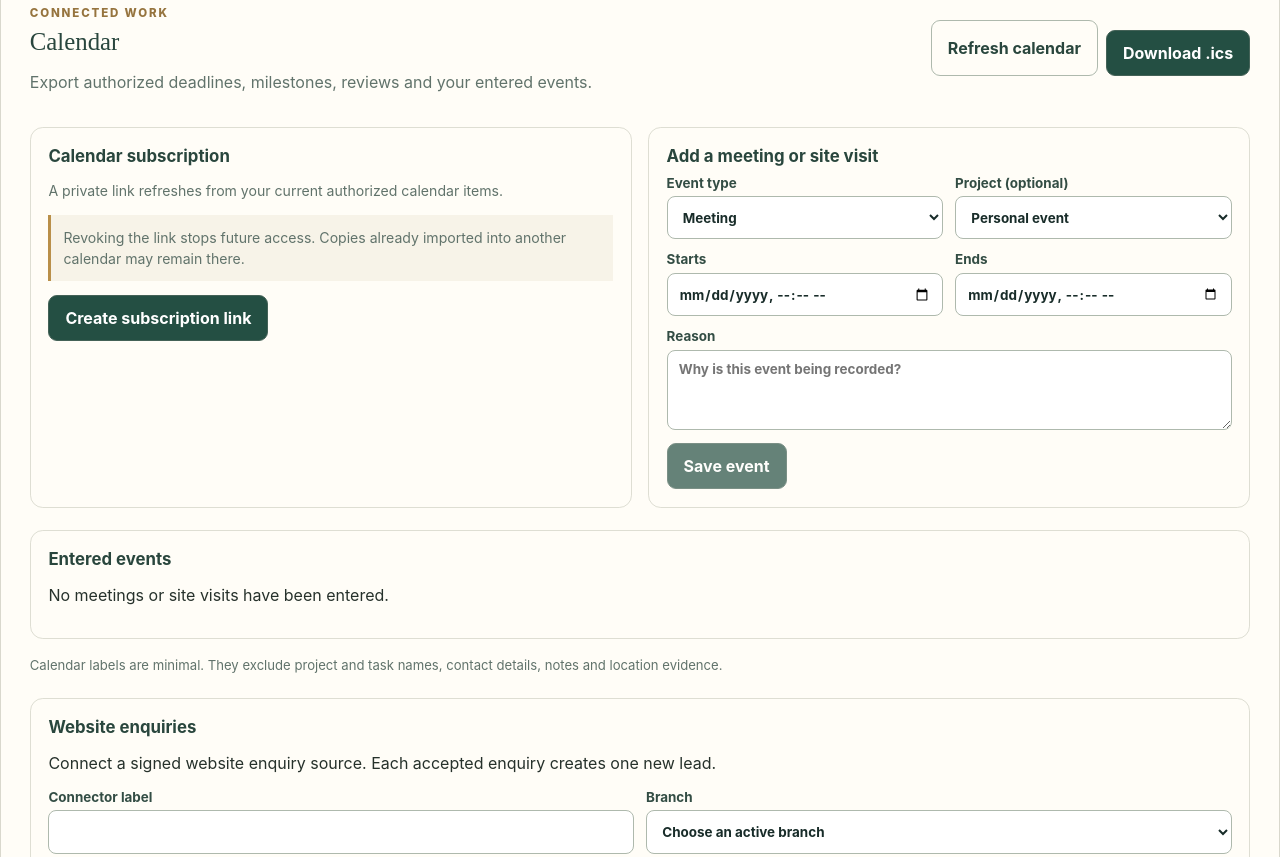
it: calendar integrations › preserves a safe connector configuration conflict message without exposing secrets
Type "Studio website" into the field labelled "Connector label" at (341, 832), box [48,810,634,854]
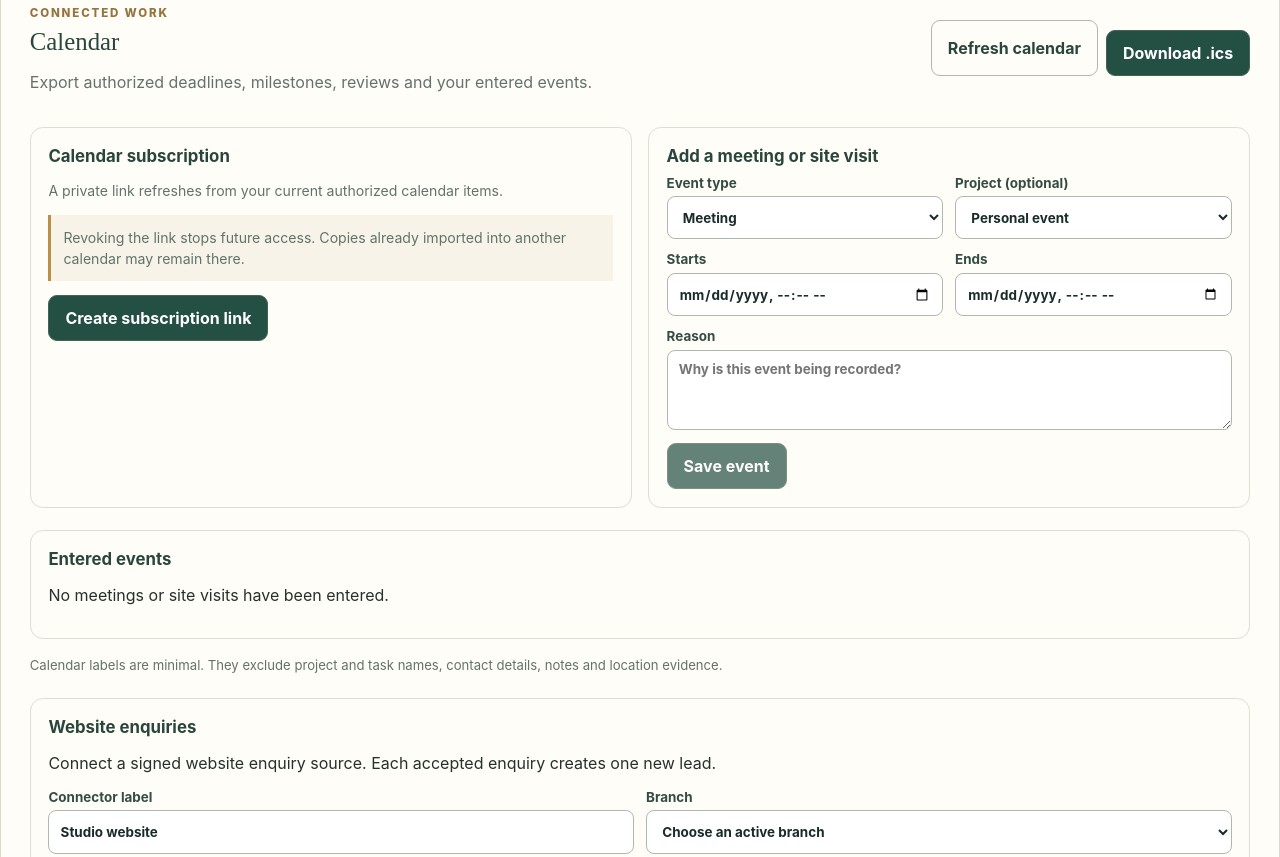
Select "Studio branch" in the dropdown labelled "Branch" at (939, 832), box [646,810,1232,854]
(page scrolled)
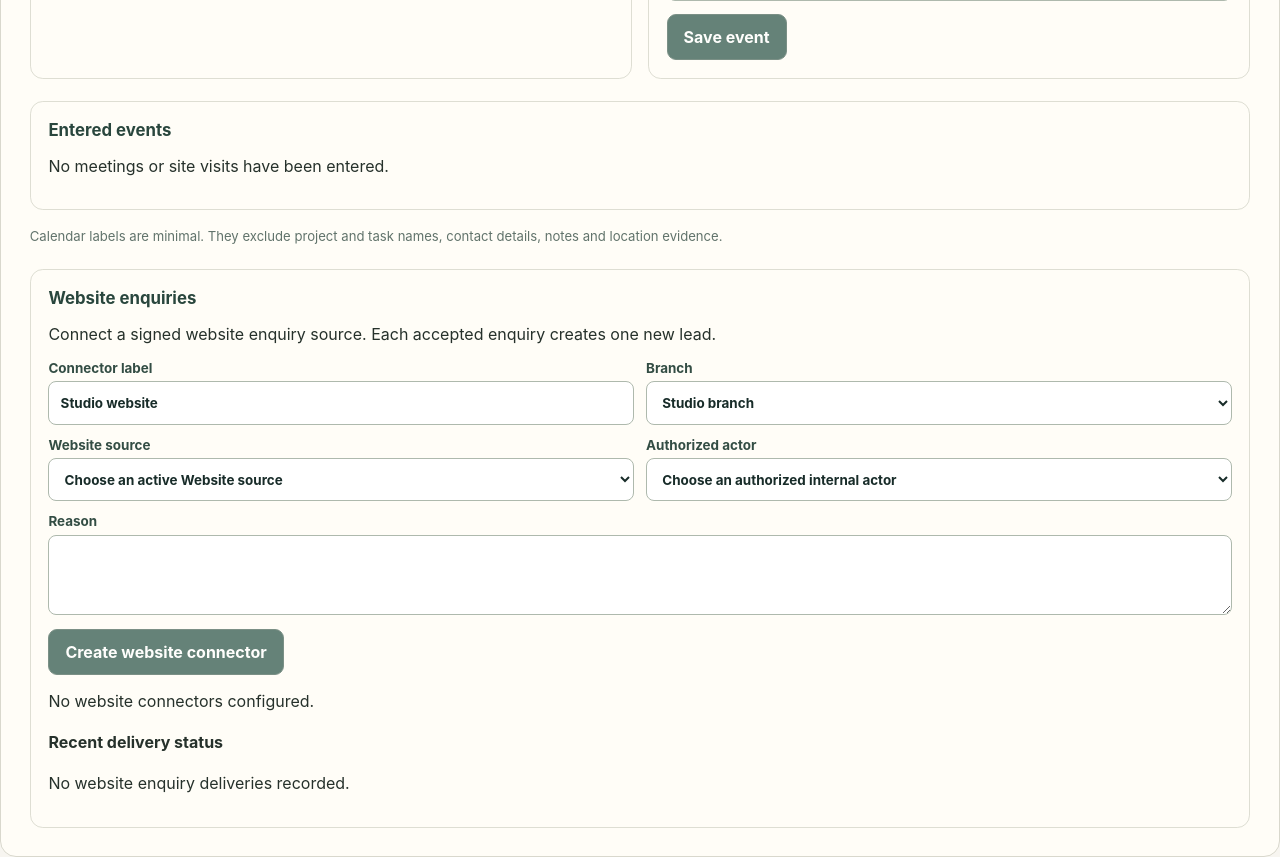
Select "Website" in the dropdown labelled "Website source" at (341, 480), box [48,458,634,501]
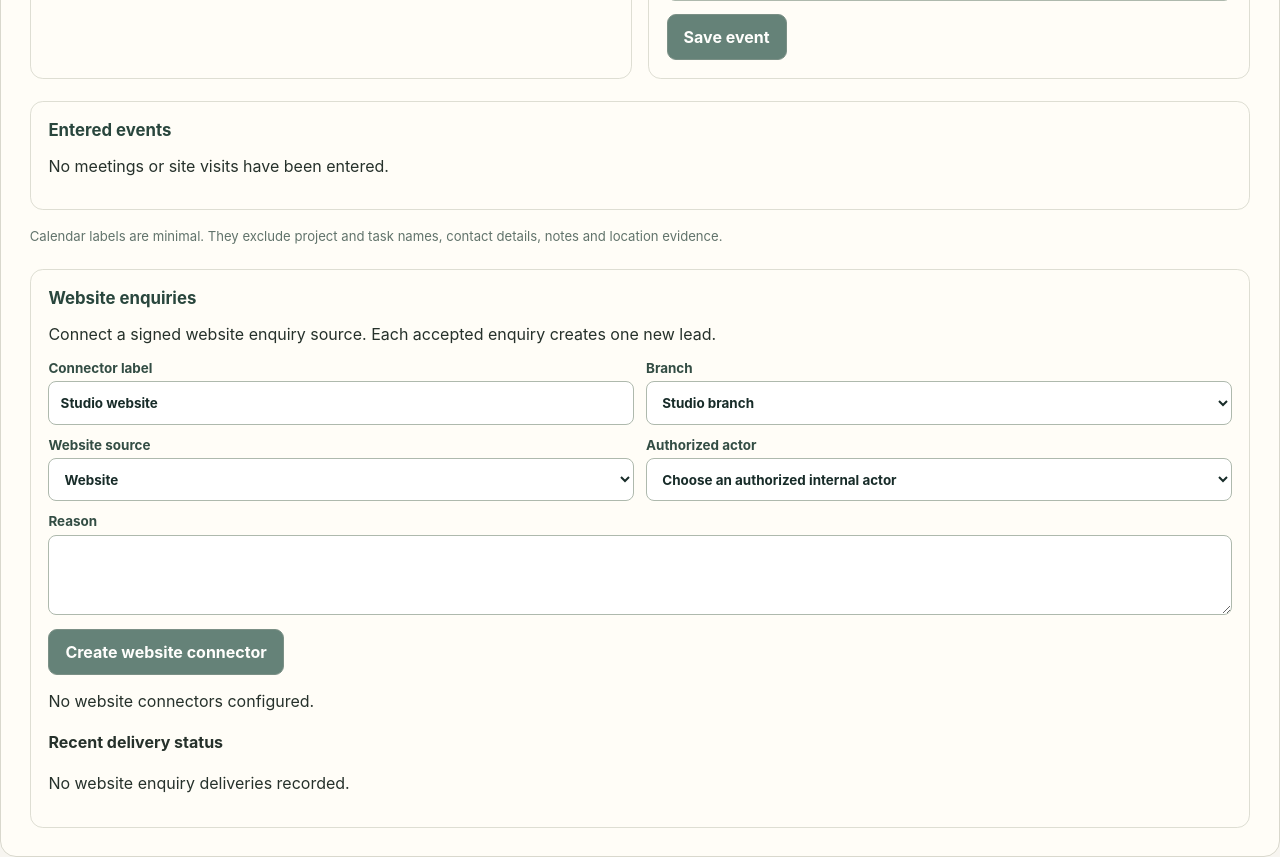
Select "Authorized staff" in the dropdown labelled "Authorized actor" at (939, 480), box [646,458,1232,501]
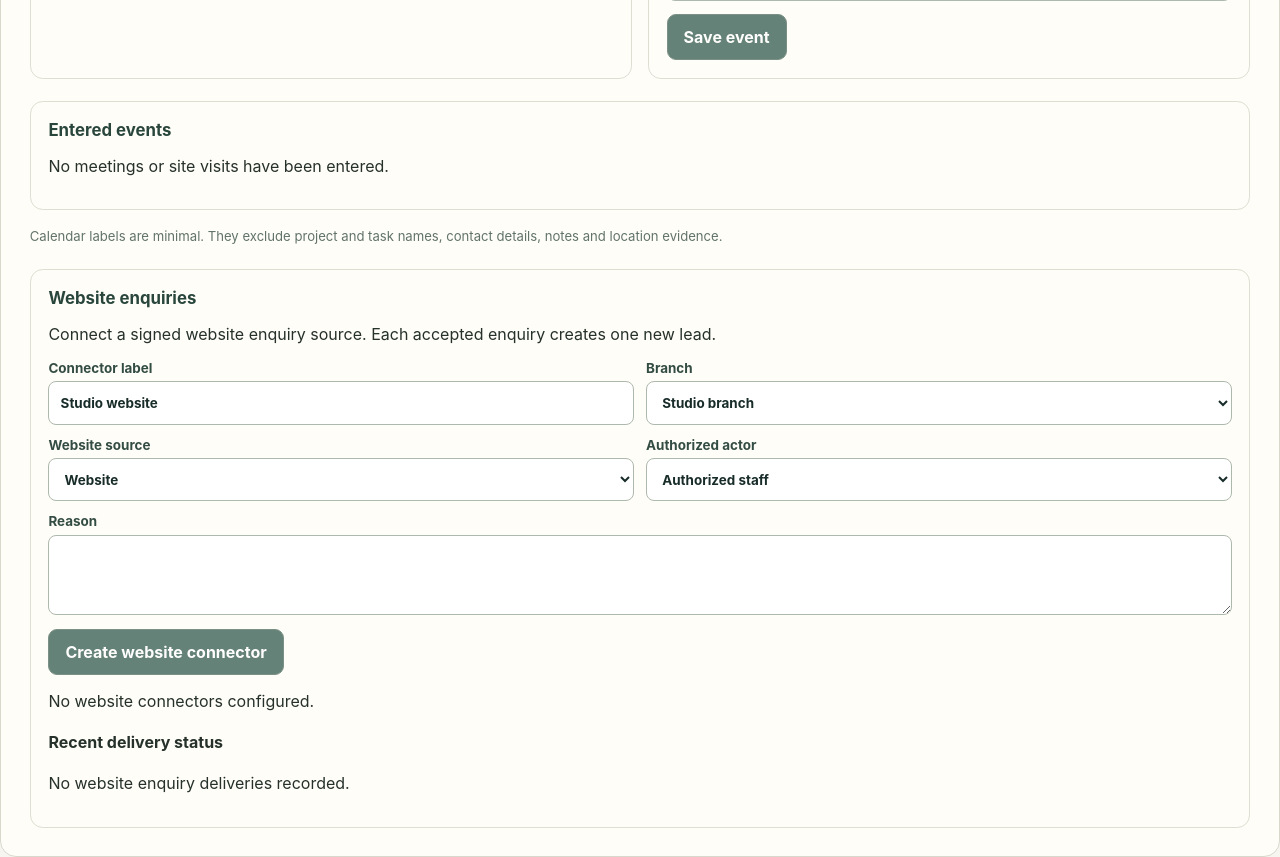
Type "Enable website intake" into the text box labelled "Reason" below "Website source" at (640, 575), box [48,535,1232,615]
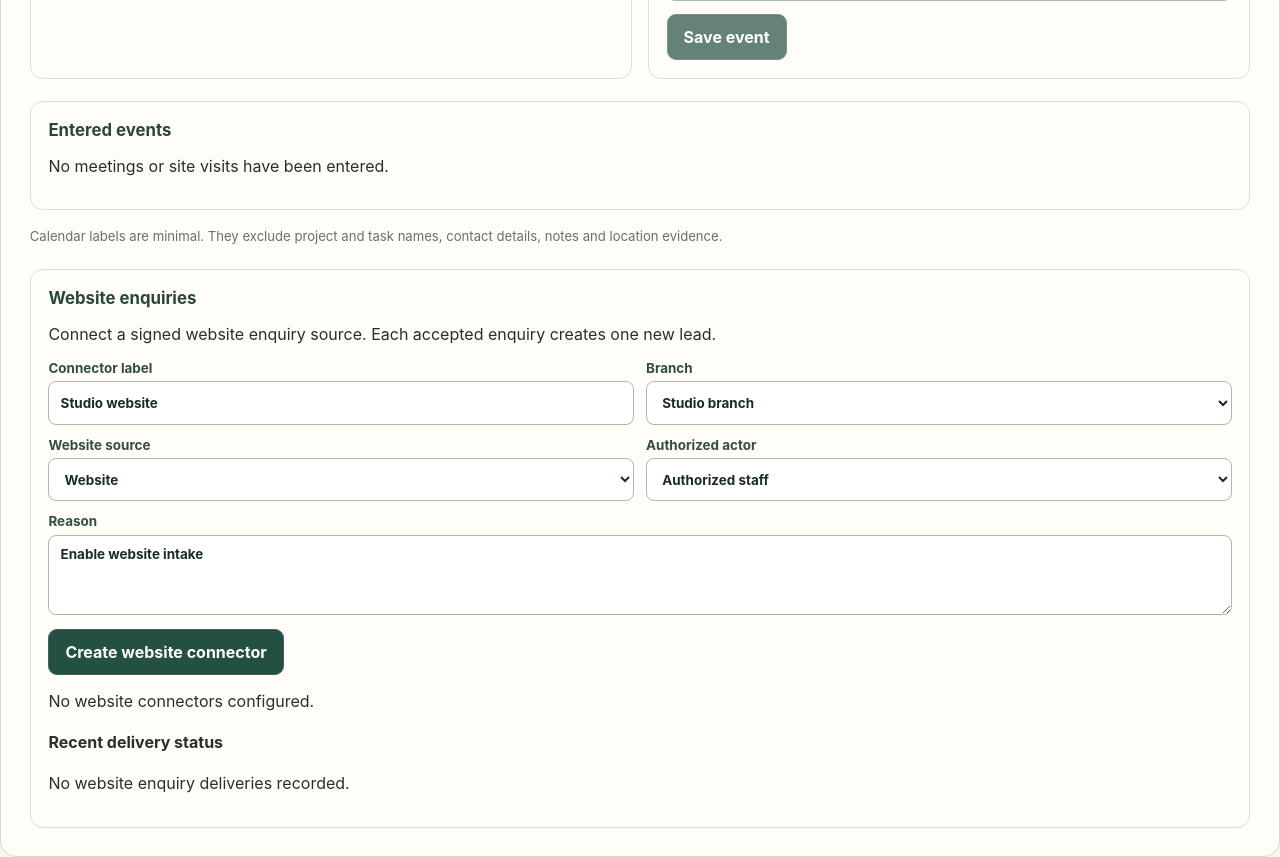
Click the button "Create website connector" at (166, 652), box [48,629,284,675]
(page scrolled)
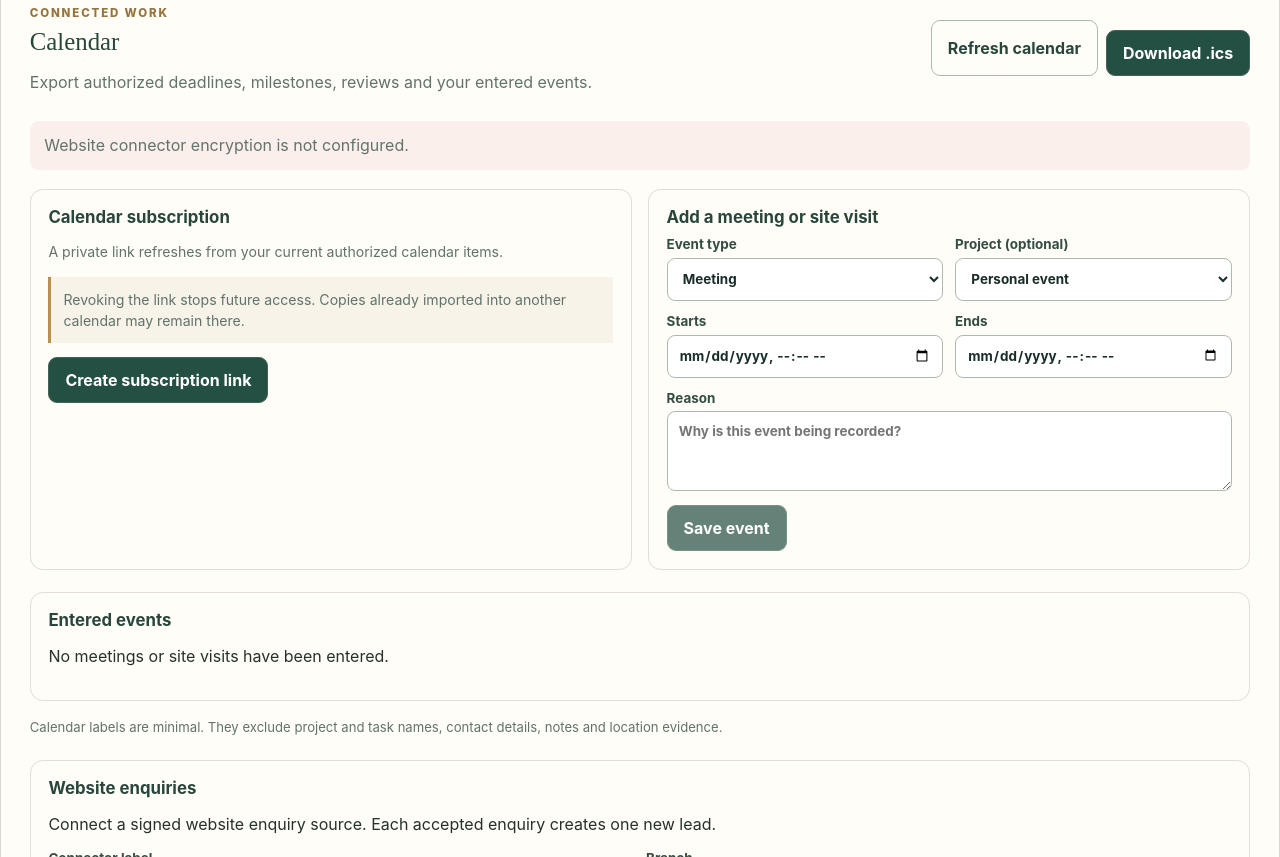
Now the message "Website connector encryption is not configured." is shown, box [30,121,1250,170]
